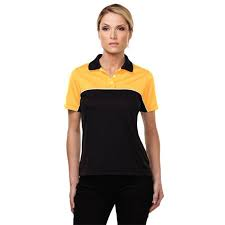C_polo shirt: (65, 57, 159, 176)
